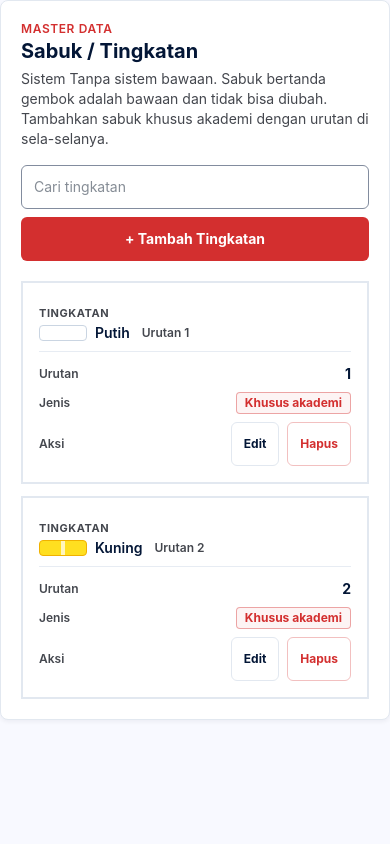
Test: AcademyRanksManager › membuka SheetModal saat tombol Tambah Tingkatan diklik di mobile
This screenshot has width=390, height=844.
Click the button "+ Tambah Tingkatan": [195, 239] box [21, 217, 369, 261]
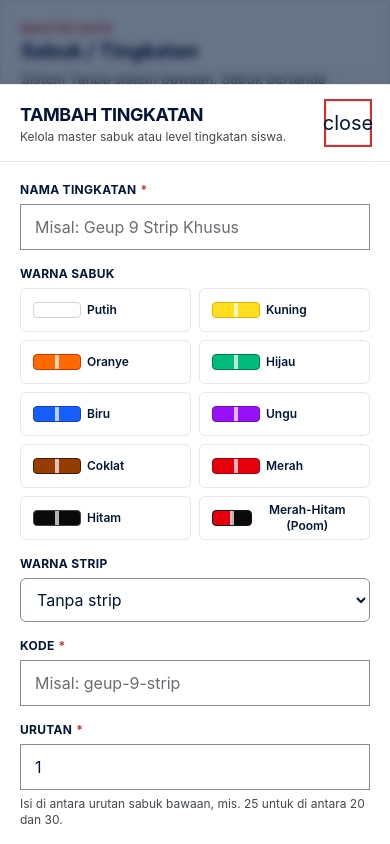
expect the dialog is shown: met
expect the heading "Tambah Tingkatan" is shown: met, box [20, 104, 203, 125]
